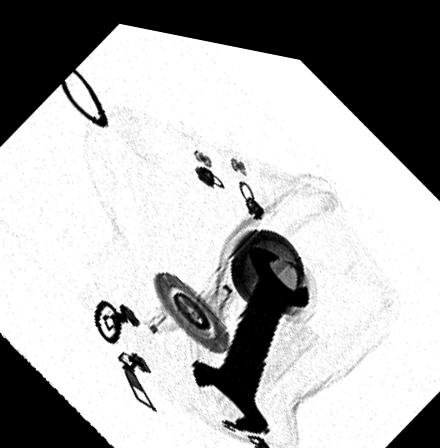Wrench: (191, 232, 309, 425)
